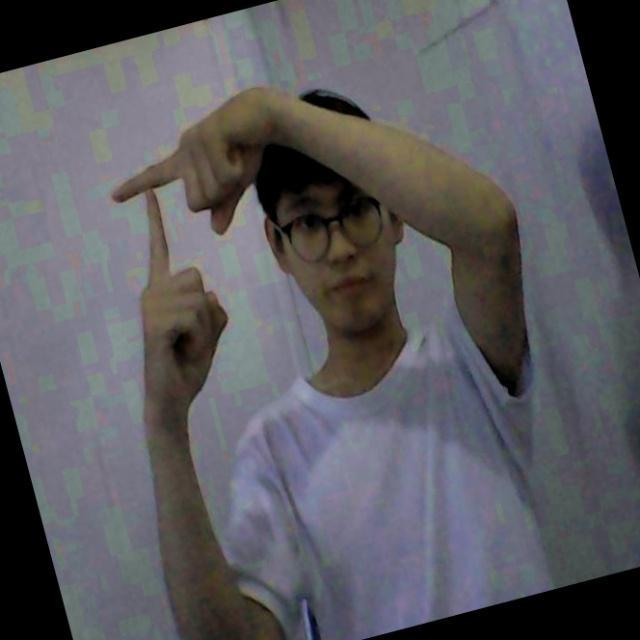T: (106, 140, 239, 358)
